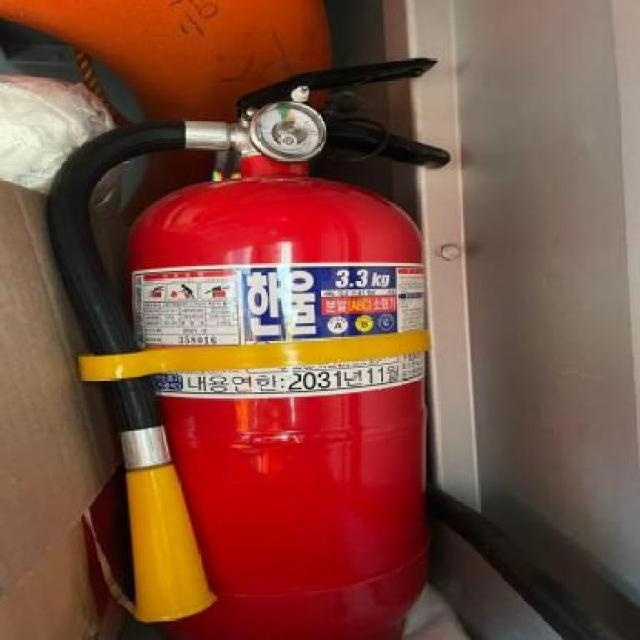fire extinguisher: (46, 57, 451, 640)
